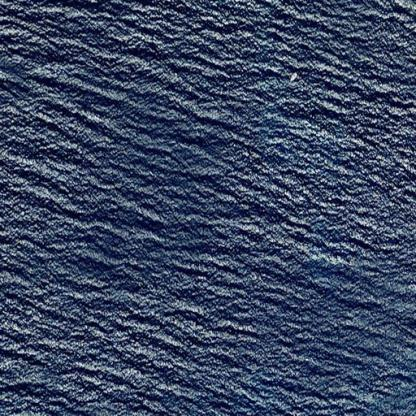ship: (280, 62, 304, 86)
